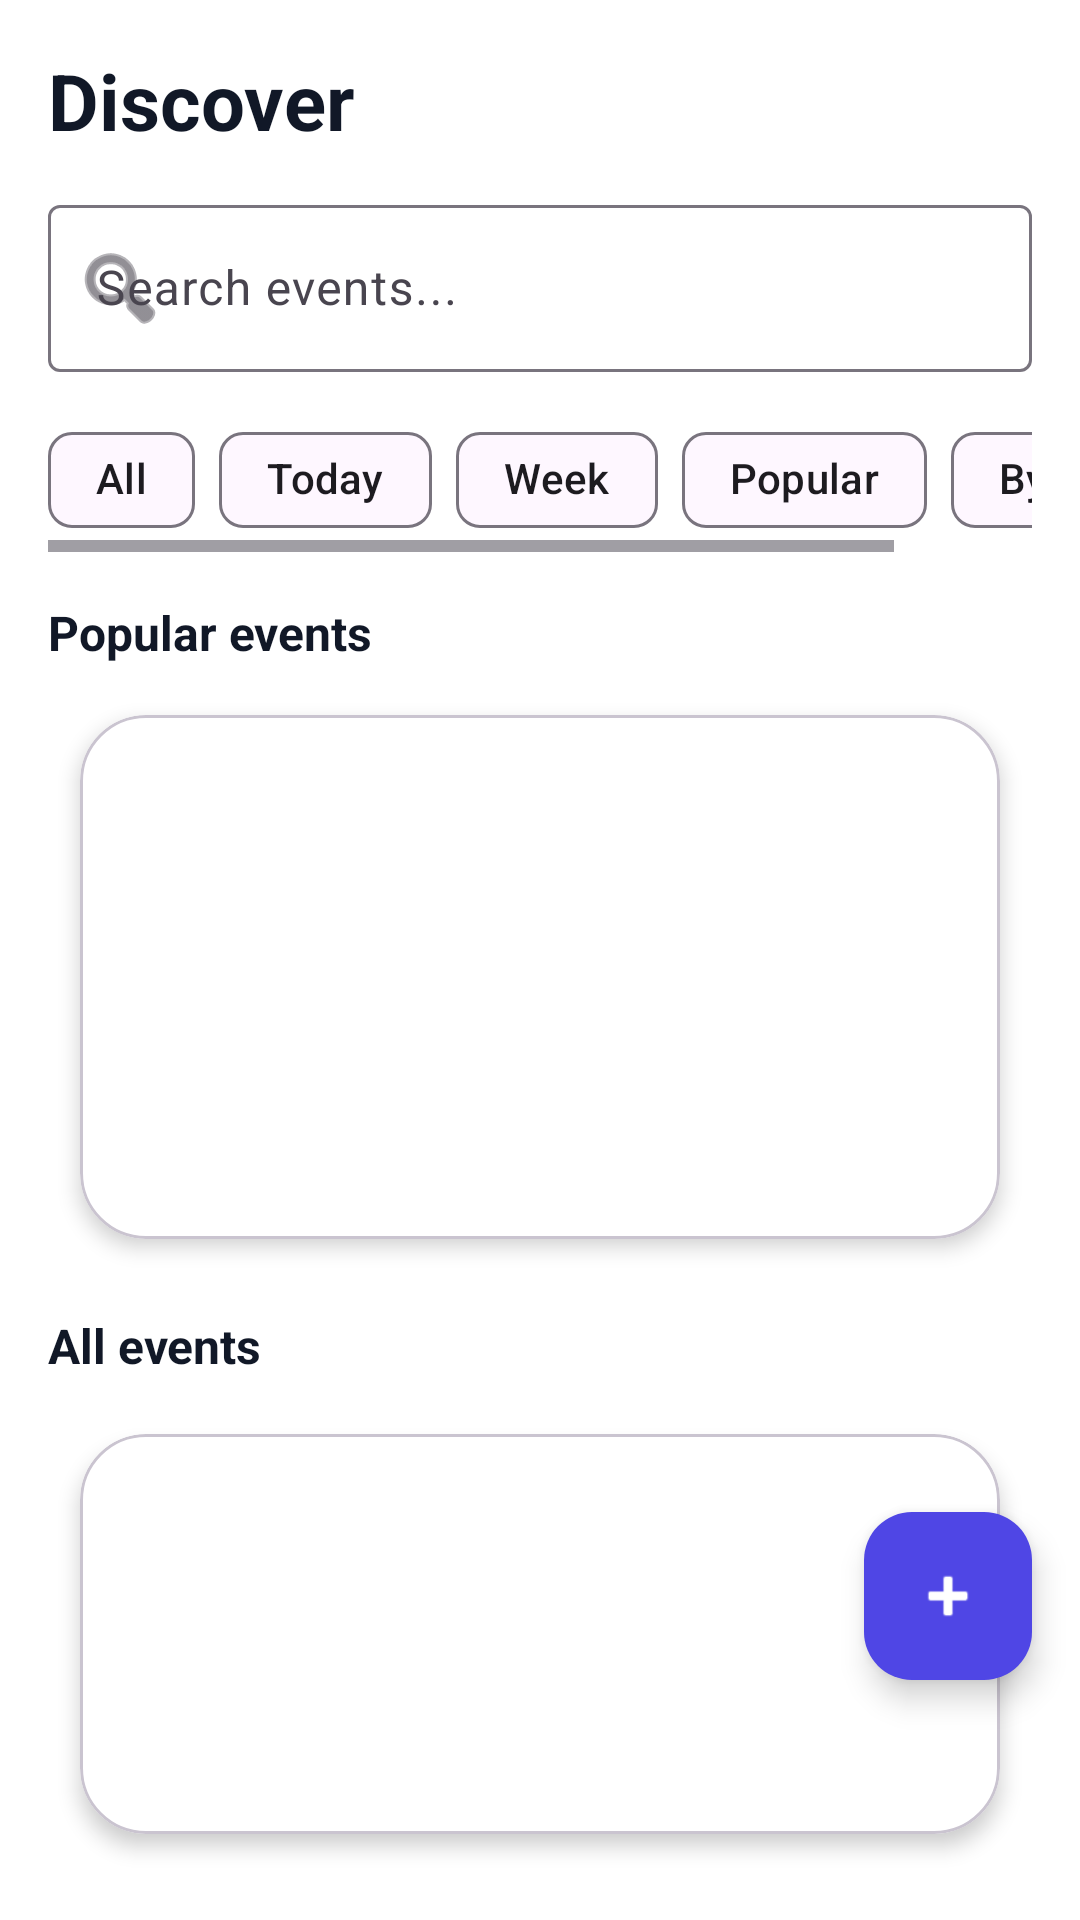

Where icons sit on this 1080px×1920px app screen, as (x1, y1, x2, y2):
add: (864, 1512, 1032, 1680)
